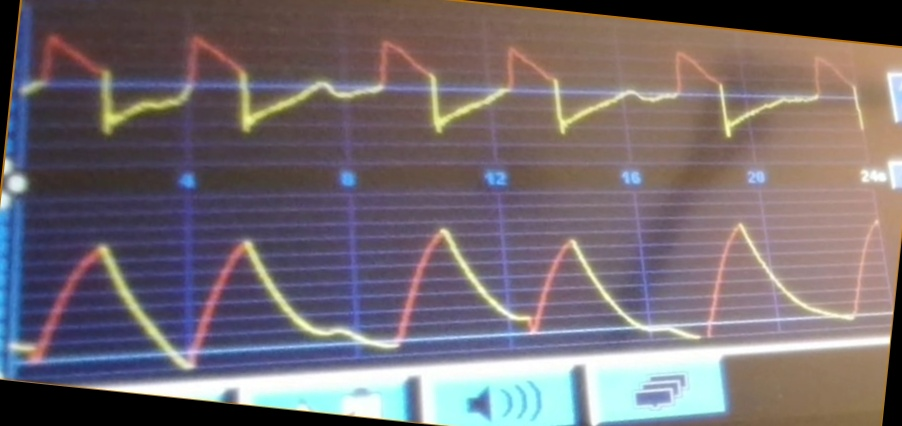Ineffective_effort Flow: (32, 28, 863, 151)
Ineffective_effort Volume: (21, 215, 878, 373)
